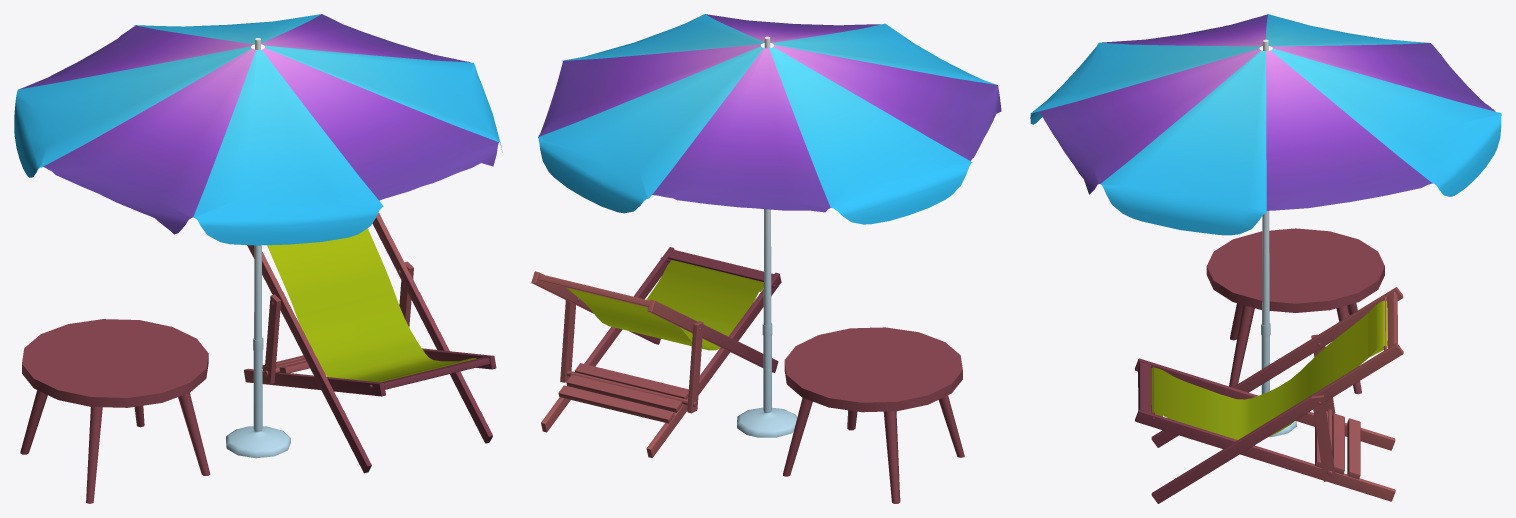
The model's file is Pool_Table.fbx.
The picture shows the model from 3 angles, left to right: view 1: azimuth 30°, elevation 25°; view 2: azimuth 150°, elevation 25°; view 3: azimuth 270°, elevation 25°; orthographic projection. The views are drawn at different scales.
Parts seen in each view (by area): view 1: Pool_Table; view 2: Pool_Table; view 3: Pool_Table.
Part boxes in pixels (x1,y1,x2,y2): Pool_Table: (14, 14, 502, 503); Pool_Table: (531, 14, 1001, 503); Pool_Table: (1030, 14, 1501, 503).
Bounding box in the file's own units: 26.56 × 23.8 × 26.51.
Materials: 1 (1 with a texture image).
